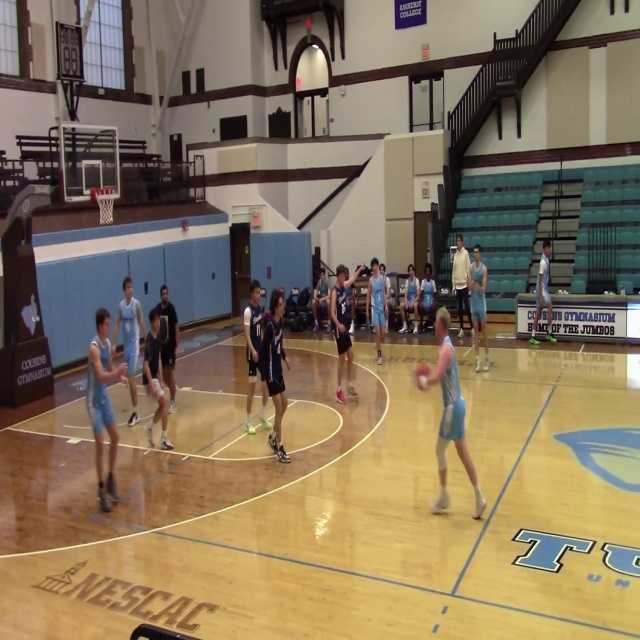Basketball: (414, 363, 430, 391)
